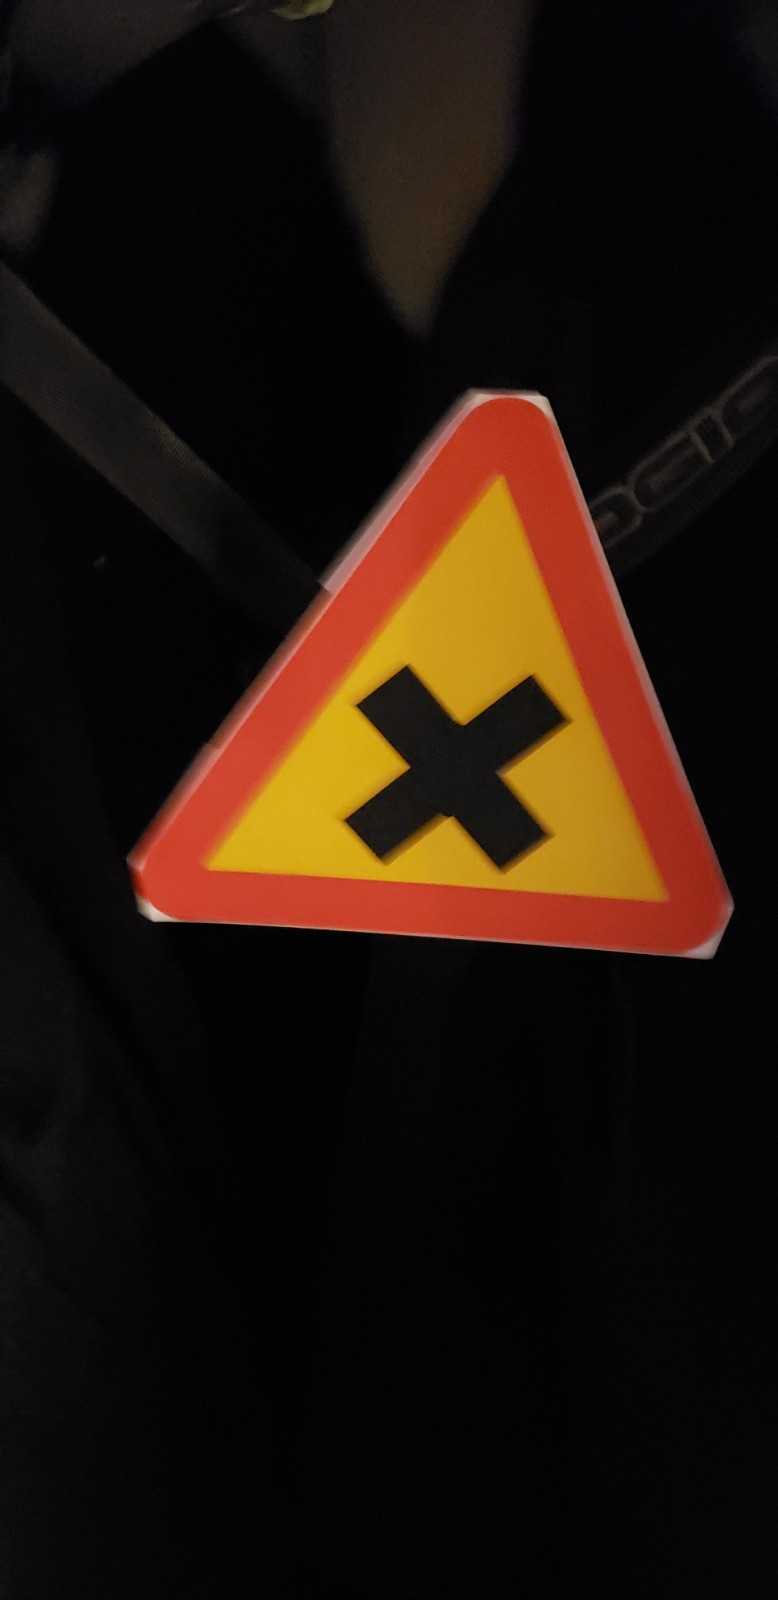junction: (130, 306, 737, 1034)
